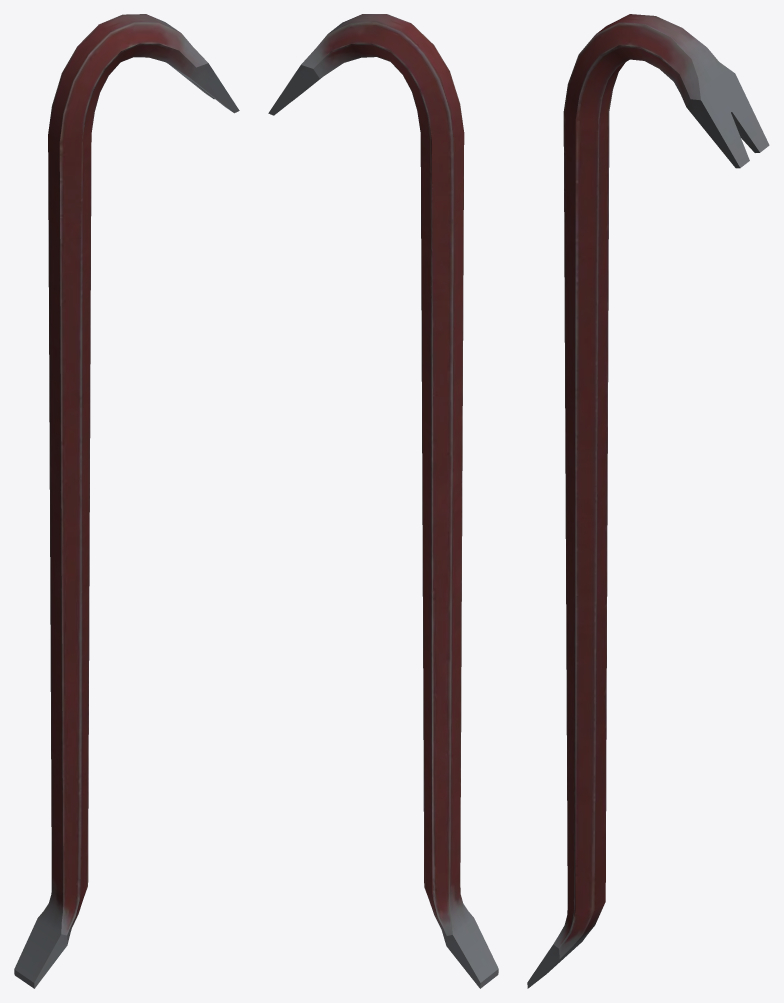
Rendered from crowbar.glb.
3 views of the same model, side by side, from view 1: azimuth 30°, elevation 25°; view 2: azimuth 150°, elevation 25°; view 3: azimuth 330°, elevation 25° (orthographic). The views are drawn at different scales.
Visible parts, largest first — view 1: defaultMaterial; view 2: defaultMaterial; view 3: defaultMaterial.
Part boxes in pixels (bbox=[...]): defaultMaterial: bbox=[14, 14, 239, 988]; defaultMaterial: bbox=[268, 14, 498, 988]; defaultMaterial: bbox=[527, 14, 769, 988].
Size of the model in its own units: 0.1951 by 0.8523 by 0.0564.
Materials: 1 (1 with a texture image).
